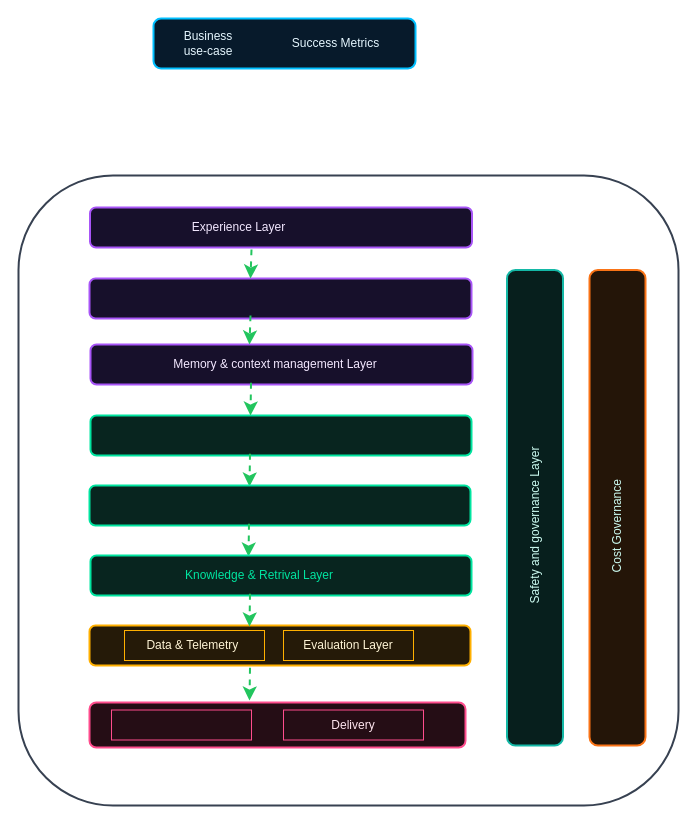
This 696x823 diagram has some shape labels left out. Here are the shapes that lost their labels. From the top down, the centre of each, then its label:
At point 280,298: "Orchestration Layer".
At point 280,435: "Agent Layer".
At point 279,505: "Tool Layer".
At point 181,724: "Platform".
